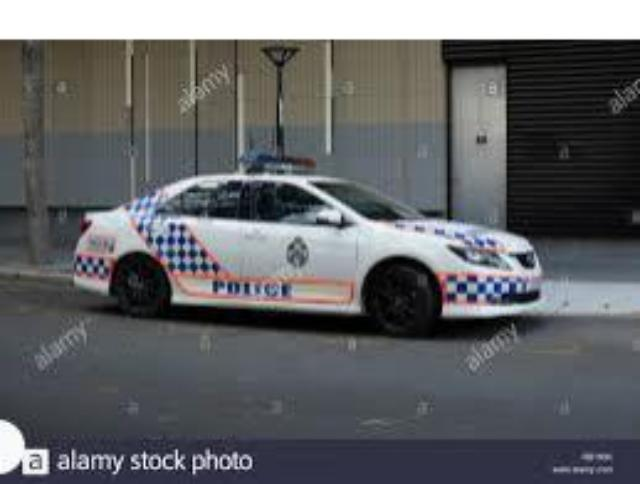police_car: (67, 151, 549, 336)
